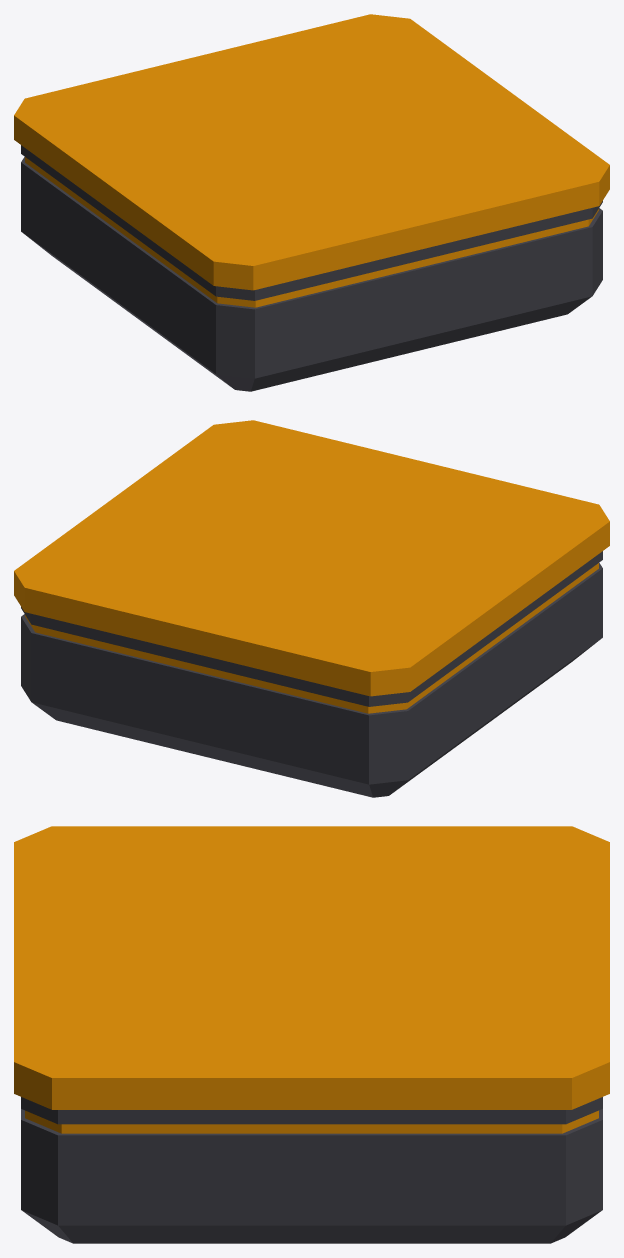
The model's file is robot.glb.
The picture shows the model from 3 angles, top to bottom: view 1: azimuth 30°, elevation 25°; view 2: azimuth 150°, elevation 25°; view 3: azimuth 270°, elevation 25°; orthographic projection. The views are drawn at different scales.
Parts seen in each view (by area): view 1: Robot; view 2: Robot; view 3: Robot.
Boxes of the visible parts, x1,y1,x2,y2 form: Robot: [14, 14, 609, 391]; Robot: [14, 420, 609, 797]; Robot: [14, 826, 609, 1243].
Bounding box in the file's own units: 0.7169 × 0.2853 × 0.7169.
